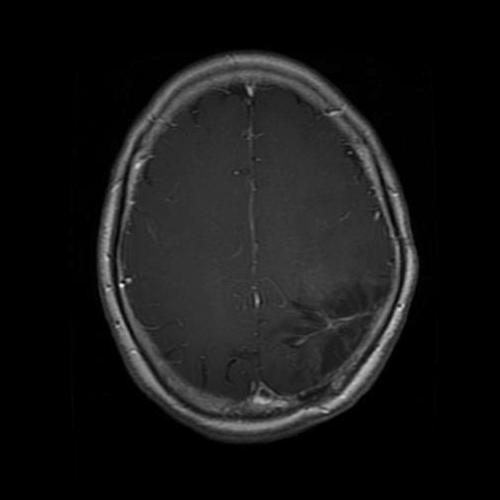Tumour-Glioma: (295, 295, 373, 367)
